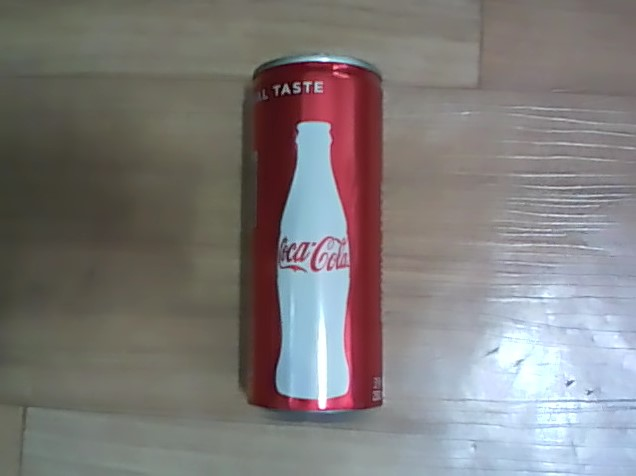Can: (235, 40, 392, 431)
